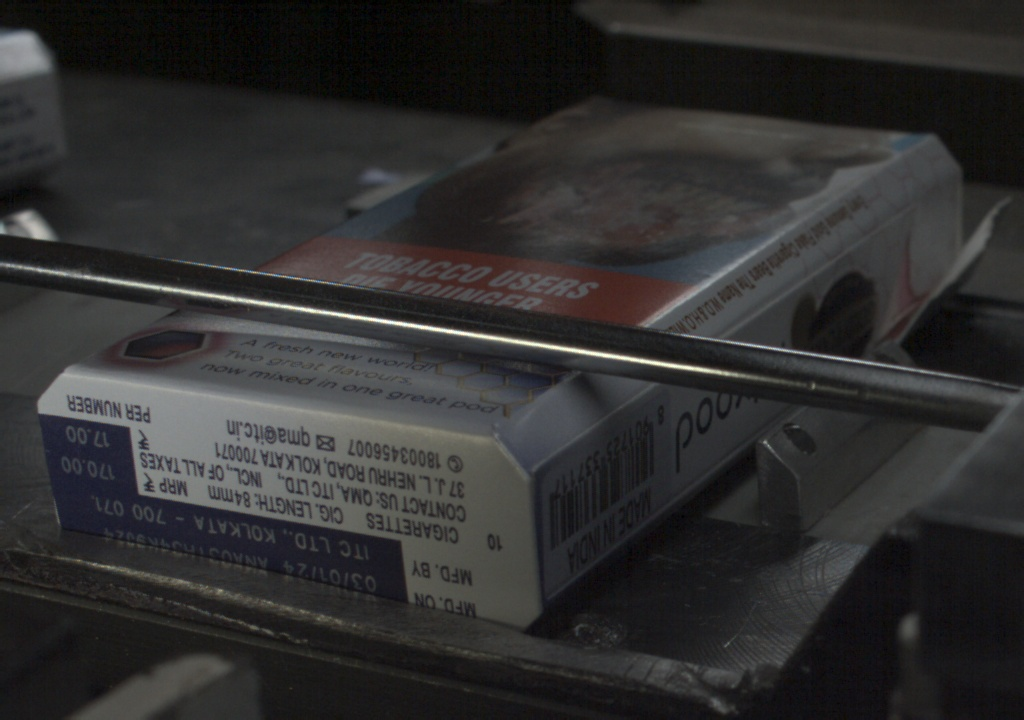g_bottom: (34, 387, 529, 637)
g_label: (48, 488, 401, 602)
g_lmiter: (716, 272, 821, 337), (822, 204, 911, 271), (536, 418, 607, 473), (608, 380, 659, 415)
ng_miter: (916, 158, 1004, 315)
price: (46, 420, 137, 490)
